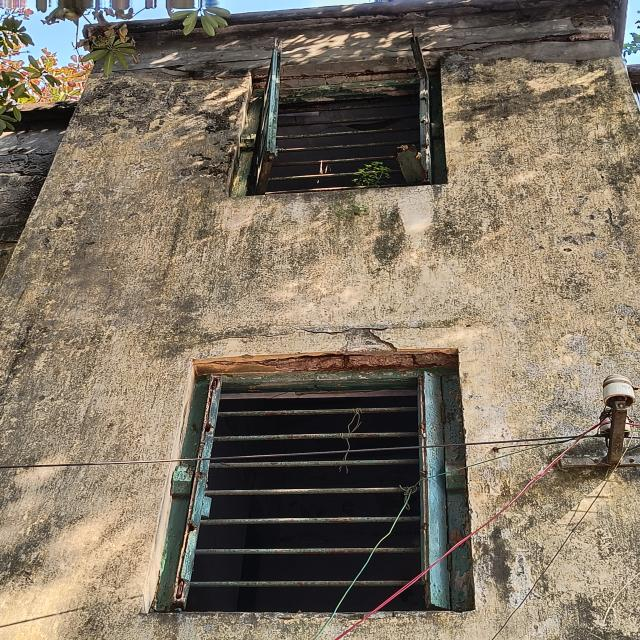Broken window pane: (396, 34, 433, 185)
Crack: (184, 321, 472, 353), (424, 25, 625, 55), (86, 54, 275, 80), (0, 149, 64, 168), (362, 45, 415, 57)
Moss growth due to damping: (329, 158, 397, 229)
Scaling: (0, 52, 640, 640)
Spalling: (280, 69, 419, 85), (252, 75, 267, 85)
pollution -moisture induced blackening: (0, 52, 640, 640)
